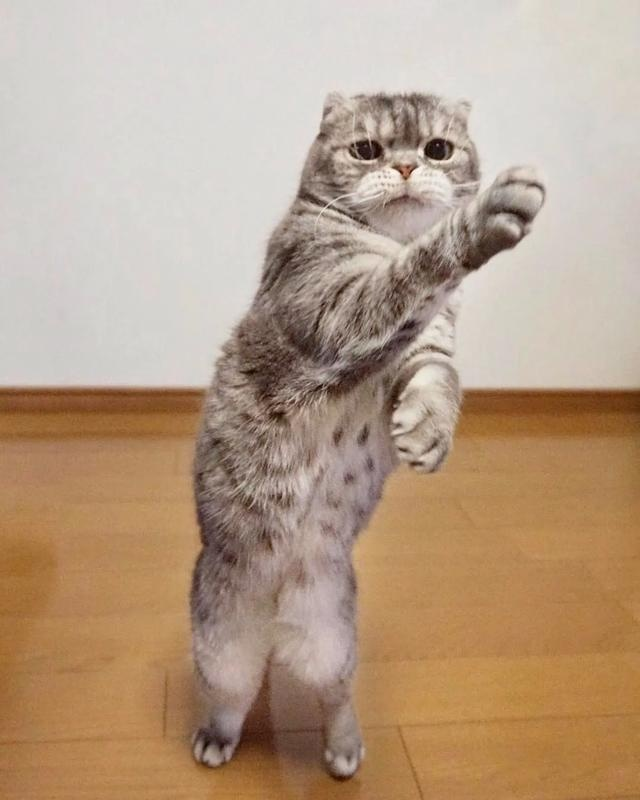cat: (188, 88, 546, 777)
